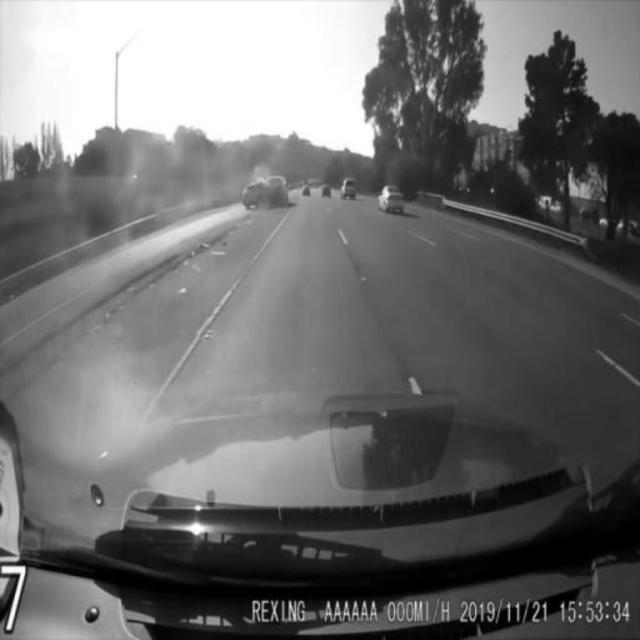accident: (242, 175, 293, 211)
vehicle: (373, 183, 407, 213), (338, 176, 360, 201), (318, 182, 340, 202)
